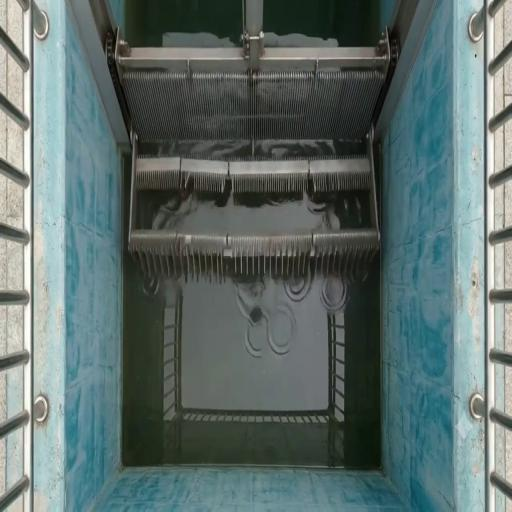rake_broken: (294, 153, 337, 200), (211, 163, 245, 206), (177, 163, 210, 203)
